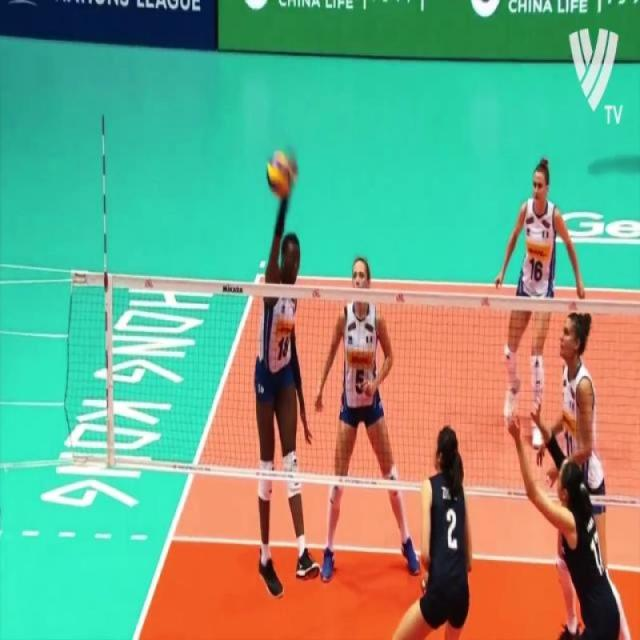volleyball: (264, 149, 294, 200)
